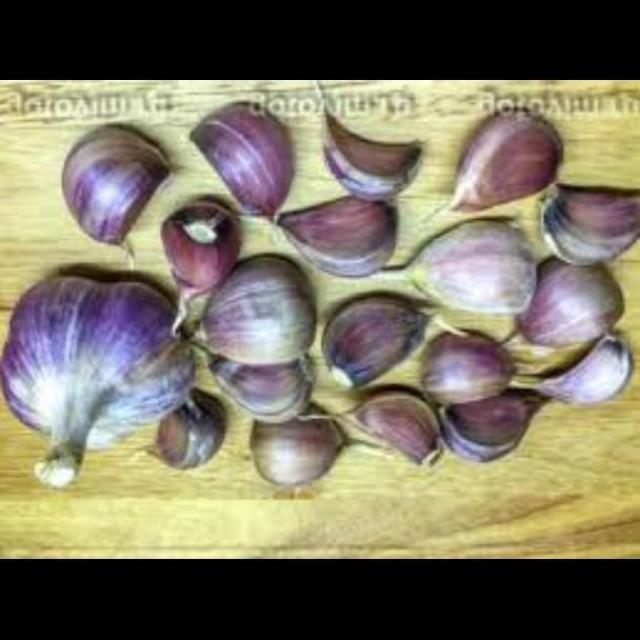garlic: (0, 278, 204, 488), (41, 104, 186, 264), (422, 101, 572, 230), (185, 264, 322, 388), (358, 224, 548, 312), (312, 288, 450, 400), (178, 104, 298, 228), (508, 255, 634, 358), (242, 411, 381, 498), (428, 376, 555, 470), (270, 194, 396, 288), (306, 118, 433, 208), (150, 214, 242, 325), (523, 336, 639, 424), (418, 330, 522, 424), (205, 354, 318, 438), (332, 398, 449, 471), (538, 184, 640, 264)
